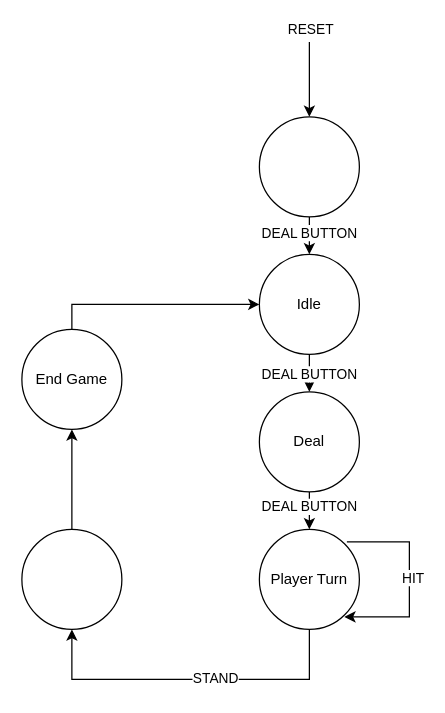
This 445x713 diagram has some shape labels left out. The shapes that lost their labels are listed below. From the top down, each one's centre as x and y in pixels, then its label:
pixel 308 166: Load
pixel 71 578: Dealer Turn
